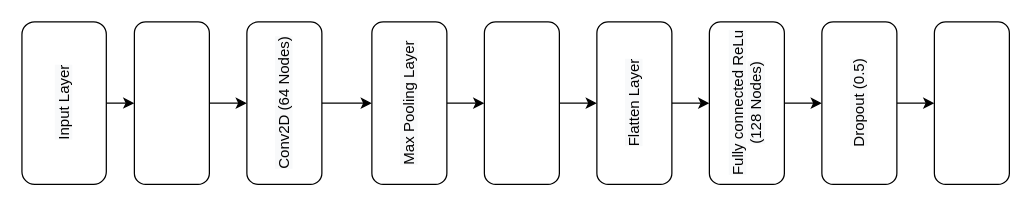
This 1031x208 diagram has some shape labels left out. Each missing label, with the box of its shape:
Conv2D (32 Nodes): (133, 21, 209, 184)
Dropout (0.25): (483, 21, 559, 184)
Output Layer: (933, 21, 1009, 184)
